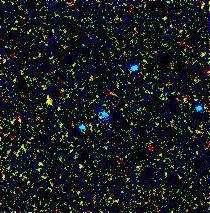star: (37, 86, 67, 116)
